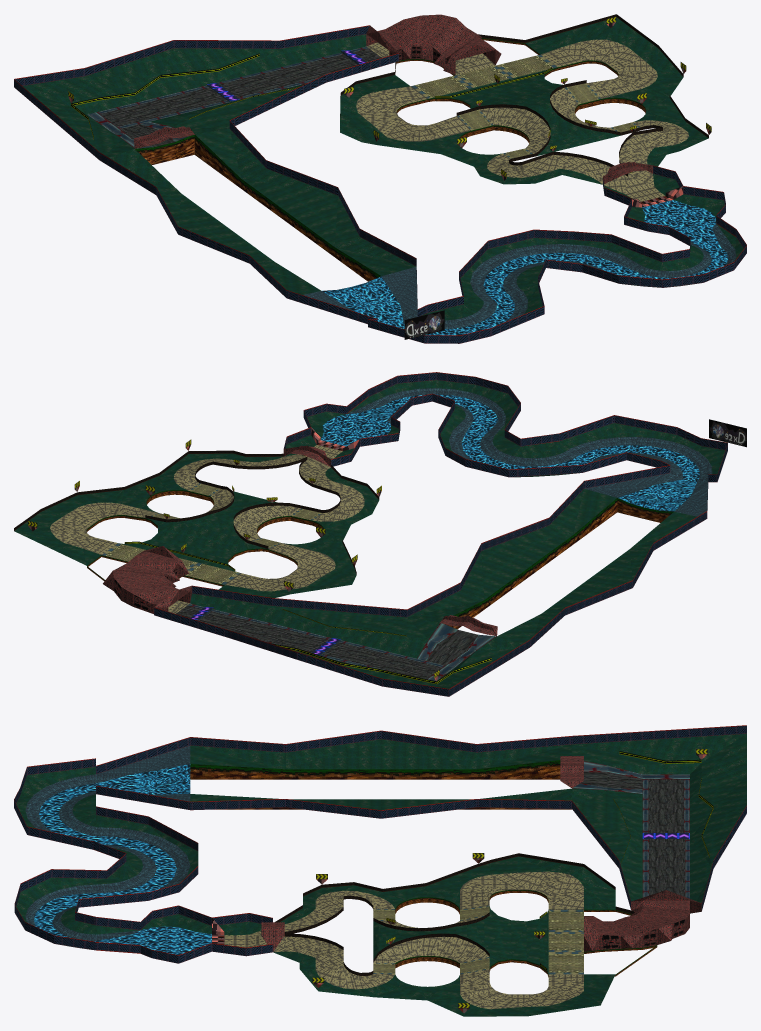
The picture shows the model from 3 angles, top to bottom: view 1: azimuth 30°, elevation 25°; view 2: azimuth 150°, elevation 25°; view 3: azimuth 270°, elevation 25°; orthographic projection. The views are drawn at different scales.
Parts seen in each view (by area): view 1: course-SKP--pasto.003, course-SKP--barda.001, course-SKP--spiso1, course-SKP--spisoR, course-SKP--pisoG, course-SKP--lodo.001, course-SKP--muro.002, course-SKP--murot, course-SKP--spiso, course-SKP--barda2, course-SKP--hierbaazul, course-SKP--barda1 (+2 smaller); view 2: course-SKP--pasto.003, course-SKP--barda.001, course-SKP--spiso1, course-SKP--spisoR, course-SKP--lodo.001, course-SKP--pisoG, course-SKP--muro.002, course-SKP--murot, course-SKP--spiso, course-SKP--barda2, course-SKP--hierbaazul, course-SKP--barda1 (+2 smaller); view 3: course-SKP--pasto.003, course-SKP--barda.001, course-SKP--spiso1, course-SKP--spisoR, course-SKP--lodo.001, course-SKP--pisoG, course-SKP--murot, course-SKP--muro.002, course-SKP--spiso, course-SKP--barda2, course-SKP--barda1, course-SKP--muro1 (+2 smaller).
Part boxes in pixels (x1,y1,x2,y2): course-SKP--pasto.003: (22,17,743,320); course-SKP--barda.001: (14,25,746,343); course-SKP--spiso1: (356,39,688,201); course-SKP--spisoR: (322,200,727,335); course-SKP--pisoG: (87,46,381,148); course-SKP--lodo.001: (206,51,736,328); course-SKP--muro.002: (134,14,652,183); course-SKP--murot: (135,38,646,281); course-SKP--spiso: (411,54,639,158); course-SKP--barda2: (456,80,662,176); course-SKP--hierbaazul: (71,53,551,139); course-SKP--barda1: (340,14,708,137); course-SKP--pasto.003: (14,380,725,688); course-SKP--barda.001: (154,372,727,696); course-SKP--spiso1: (50,445,364,613); course-SKP--spisoR: (321,394,699,511); course-SKP--lodo.001: (197,388,712,655); course-SKP--pisoG: (176,603,496,681); course-SKP--muro.002: (103,445,497,636); course-SKP--murot: (86,490,673,629); course-SKP--spiso: (102,483,321,584); course-SKP--barda2: (145,457,340,548); course-SKP--hierbaazul: (124,541,491,684); course-SKP--barda1: (14,450,379,574); course-SKP--pasto.003: (16,733,746,1016); course-SKP--barda.001: (14,725,746,963); course-SKP--spiso1: (224,871,583,1009); course-SKP--spisoR: (34,764,211,955); course-SKP--lodo.001: (25,745,190,947); course-SKP--pisoG: (572,761,689,898); course-SKP--murot: (190,760,657,977); course-SKP--muro.002: (261,756,701,951); course-SKP--spiso: (373,905,583,974); course-SKP--barda2: (284,895,489,975); course-SKP--barda1: (275,853,634,922); course-SKP--muro1: (600,919,684,949).
Size of what is drawn, in the model's own units: 100604 by 7642 by 113166.
18 materials, 18 textured.
